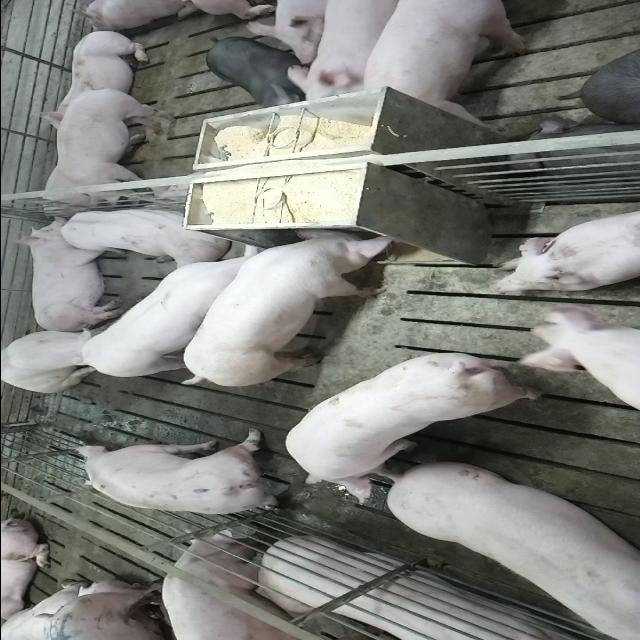Feeding: (175, 220, 402, 384)
Lateral_lying: (224, 537, 589, 640), (14, 215, 127, 334)
Sitting: (56, 204, 225, 266), (0, 325, 114, 393)
Standing: (383, 465, 640, 640), (286, 356, 546, 506), (77, 248, 277, 382), (358, 2, 536, 134), (70, 431, 294, 516), (50, 85, 182, 213), (161, 533, 307, 640), (289, 3, 409, 108)
Sternal_lying: (489, 208, 640, 293), (30, 31, 154, 128)
